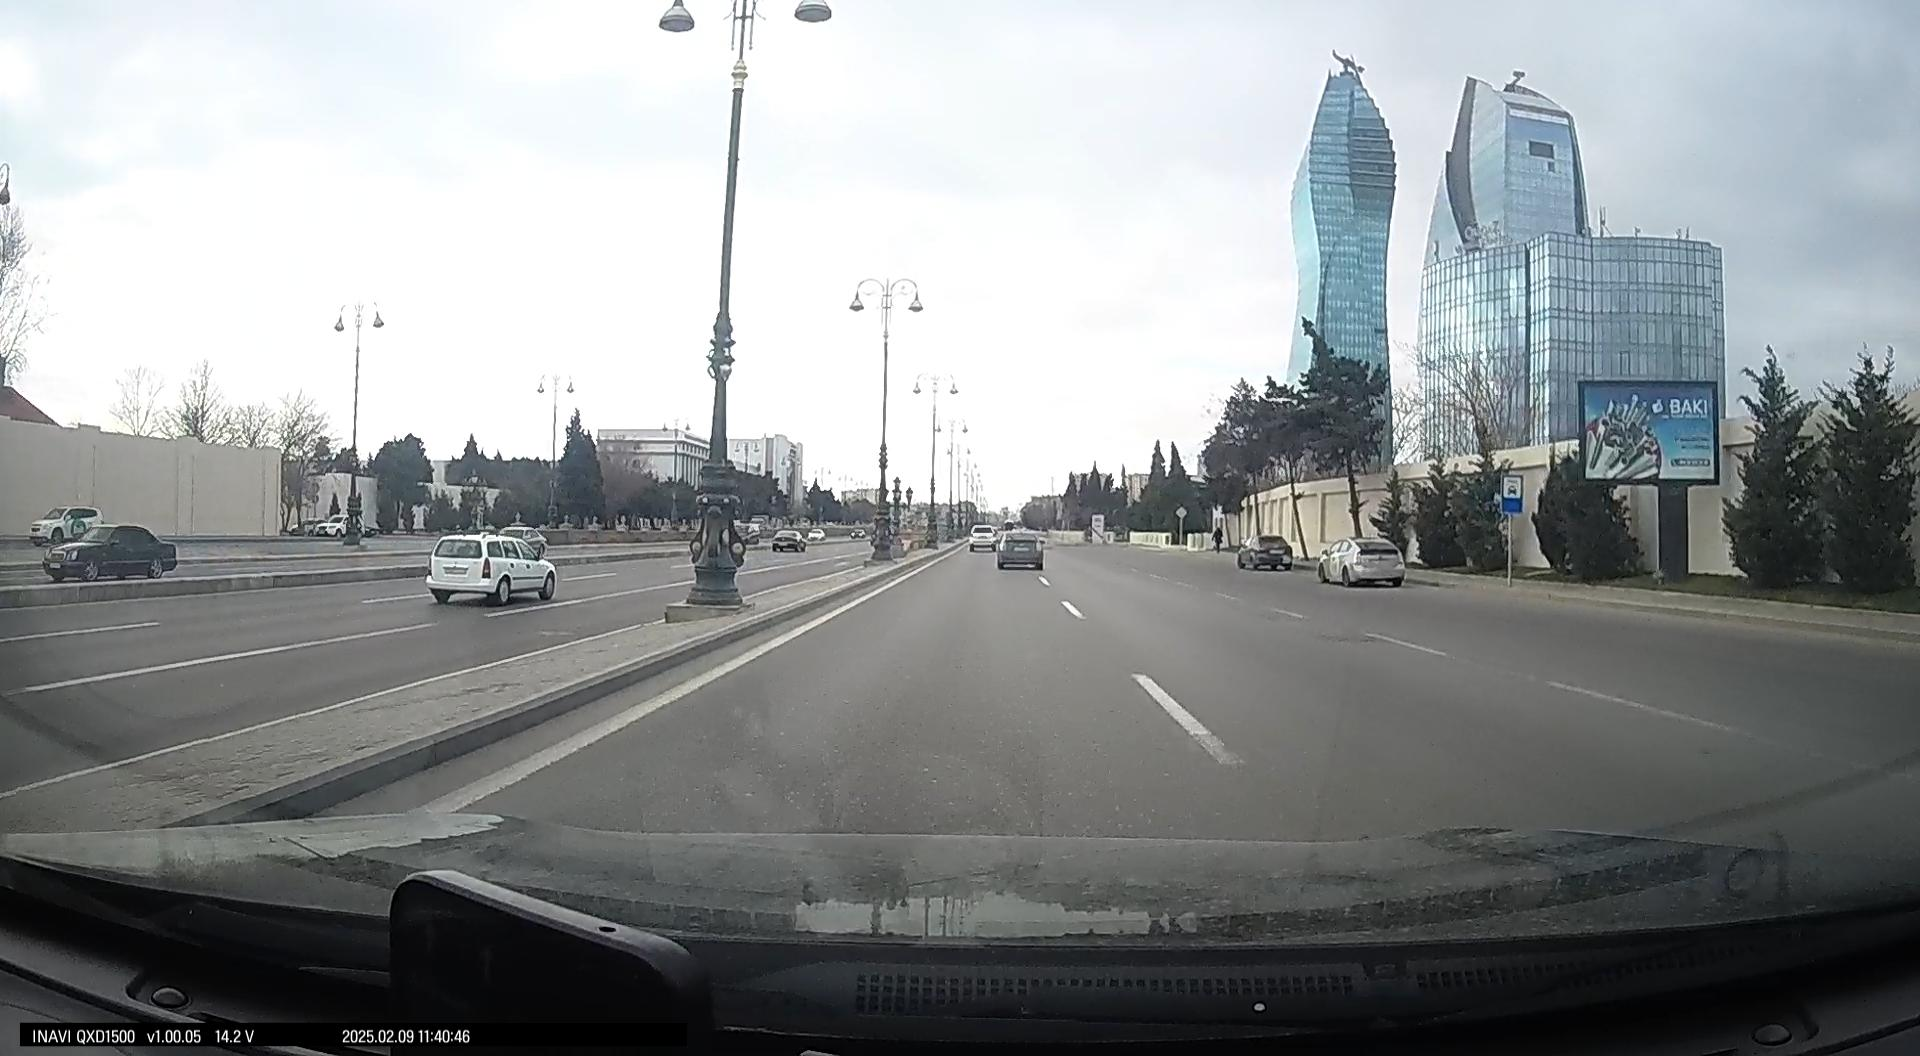banner: (1578, 380, 1720, 486)
